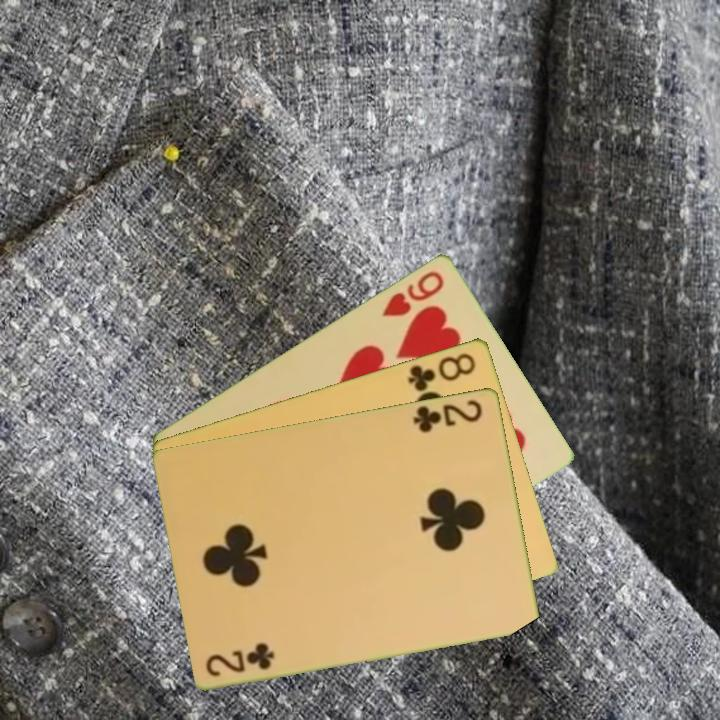2c: (410, 395, 486, 435), (202, 641, 278, 679)
8c: (404, 349, 479, 394)
9h: (378, 266, 447, 319)
